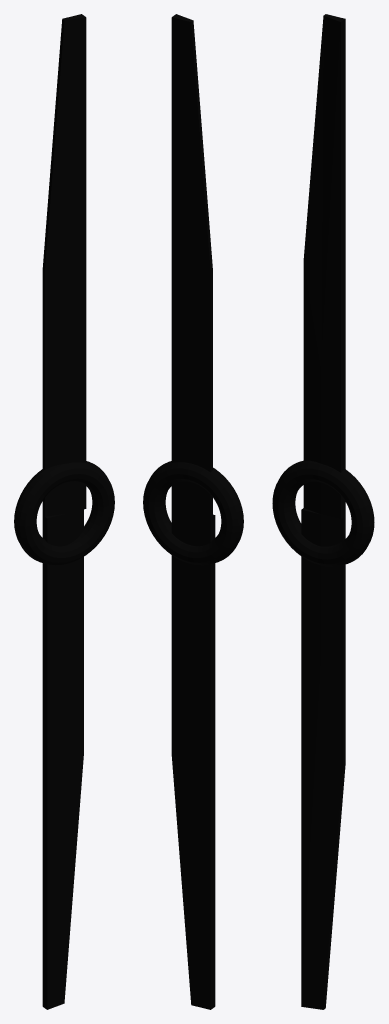
The model's file is Heli_propeller2.obj.
The picture shows the model from 3 angles, left to right: view 1: azimuth 30°, elevation 25°; view 2: azimuth 150°, elevation 25°; view 3: azimuth 330°, elevation 25°; orthographic projection.
Parts seen in each view (by area): view 1: 立方体.004_立方体.006; view 2: 立方体.004_立方体.006; view 3: 立方体.004_立方体.006.
Boxes of the visible parts, x1=… form: 立方体.004_立方体.006: x1=14, y1=14, x2=114, y2=1009; 立方体.004_立方体.006: x1=143, y1=14, x2=243, y2=1009; 立方体.004_立方体.006: x1=272, y1=14, x2=374, y2=1009.
Size of the model in its own units: 1.25 by 12 by 0.25.
Materials: 1 (1 with a texture image).
